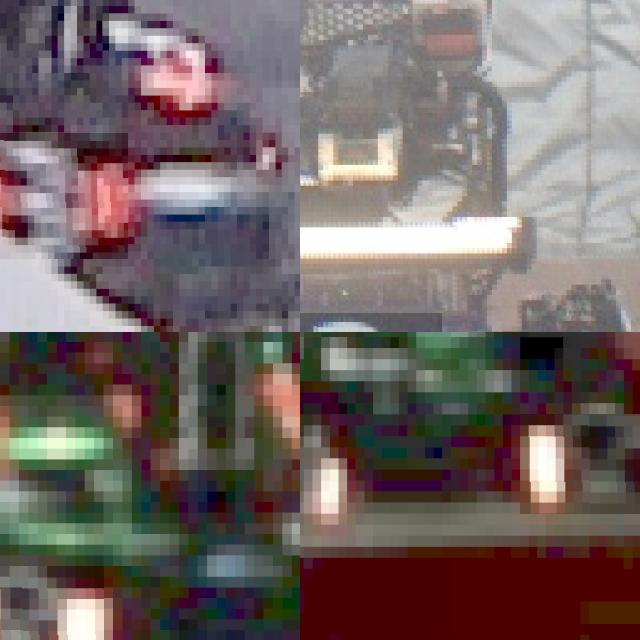R3: (0, 132, 128, 259)
Rs: (519, 414, 640, 513), (0, 566, 103, 640)
